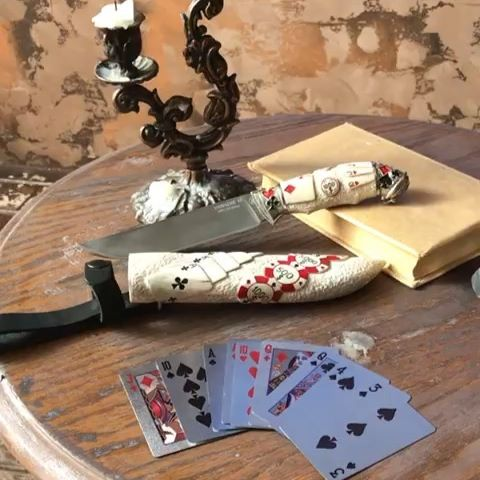knife: (79, 160, 409, 260)
